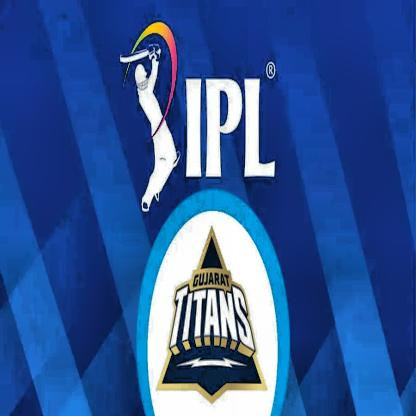Gujarat Titans: (157, 220, 268, 405)
IPL: (119, 18, 182, 219), (184, 72, 274, 181)
